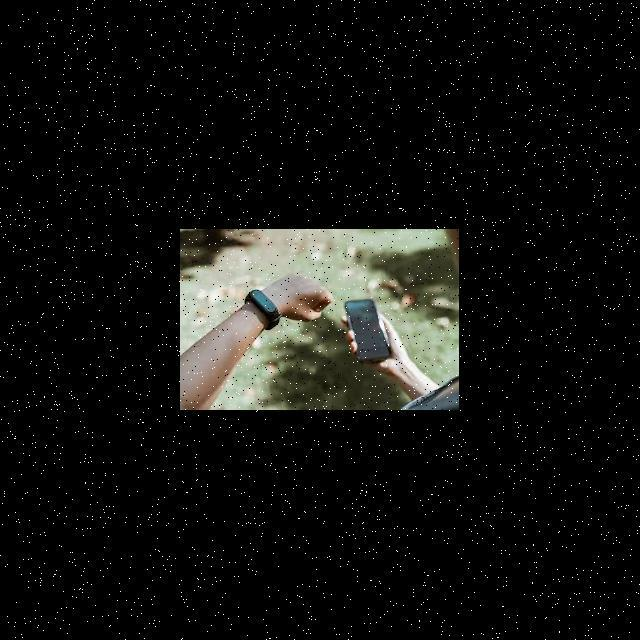smart phone: (338, 293, 410, 385)
watch: (235, 276, 287, 346)
